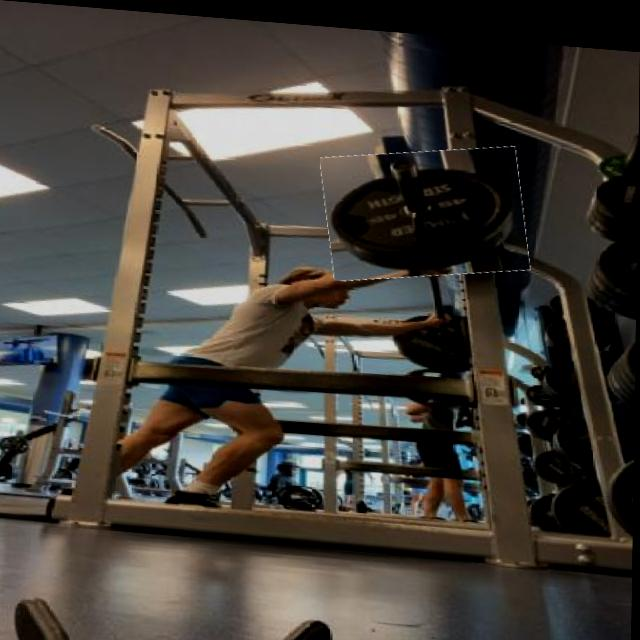barbell: (323, 132, 529, 281)
